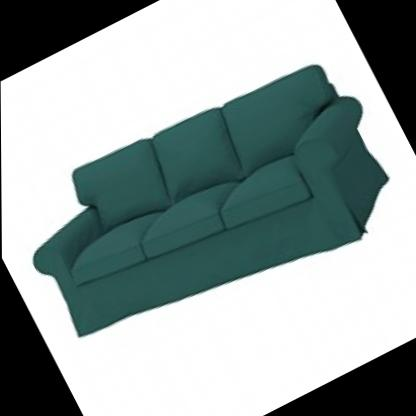Sofa: (0, 33, 416, 381)
